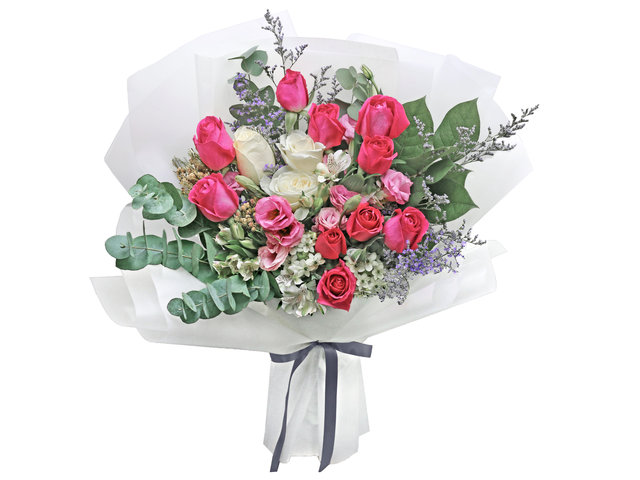Pink: (354, 93, 409, 141), (189, 174, 239, 222), (193, 114, 235, 169), (315, 264, 355, 312), (384, 207, 426, 252), (307, 103, 340, 151), (275, 69, 308, 114), (359, 134, 396, 173), (347, 203, 384, 242), (264, 213, 303, 246), (315, 227, 350, 261), (256, 195, 288, 228), (381, 169, 412, 203), (256, 242, 290, 270), (325, 184, 365, 207), (311, 207, 344, 228)
White: (263, 165, 332, 204), (235, 127, 274, 189), (277, 129, 324, 173), (277, 284, 313, 318)
